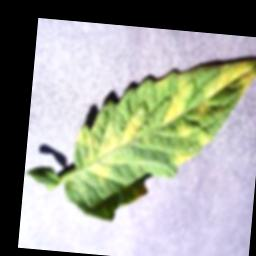Leaf_Mold: (63, 40, 256, 233)
